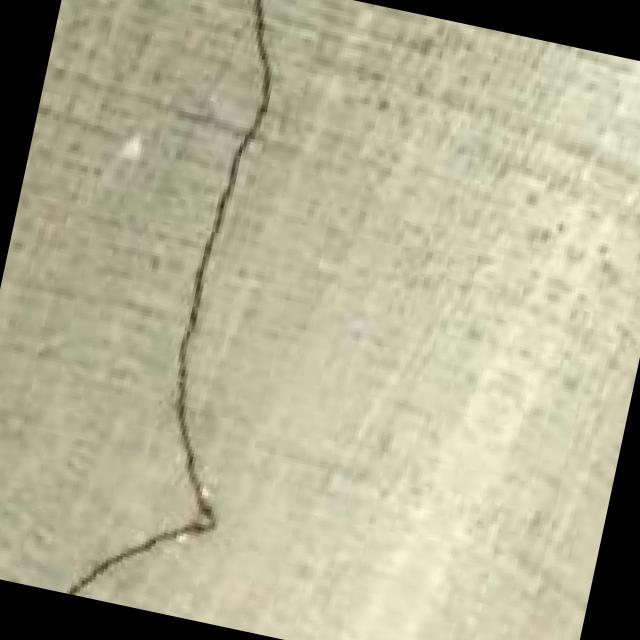crack: (38, 0, 382, 629)
